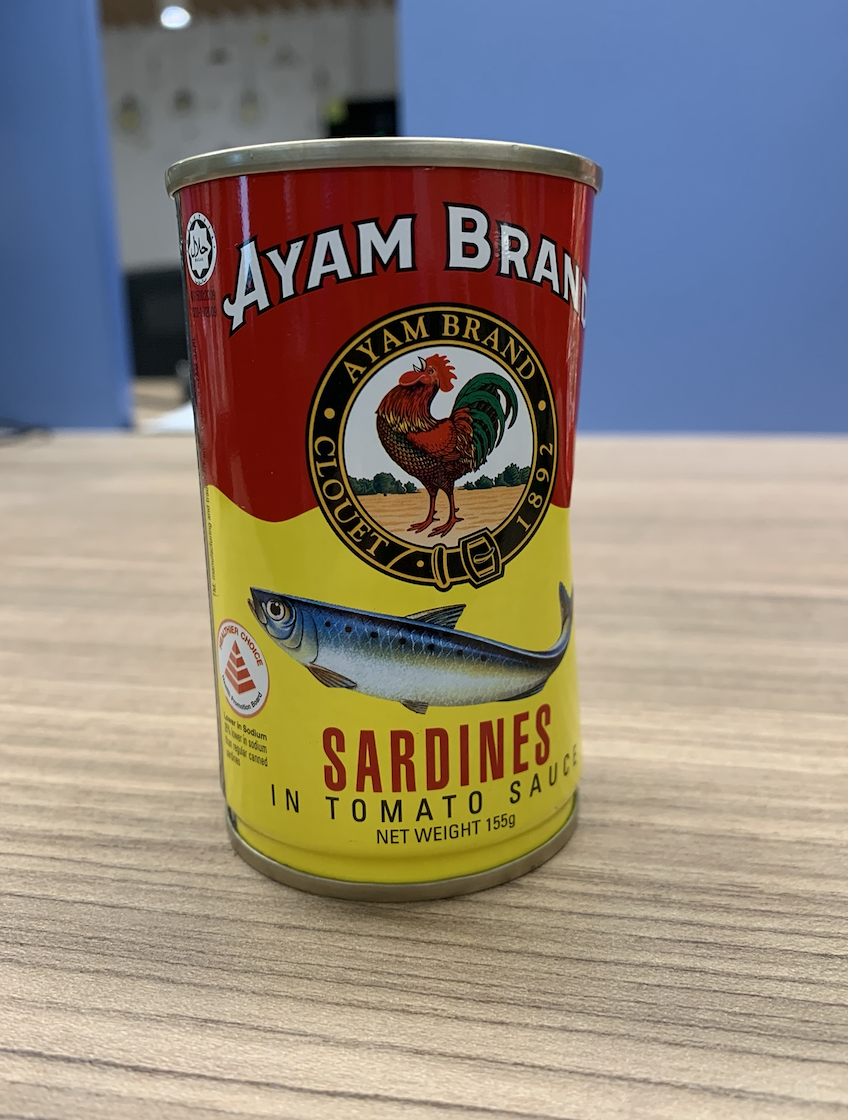sardines_100g-199g: (215, 202, 570, 844)
